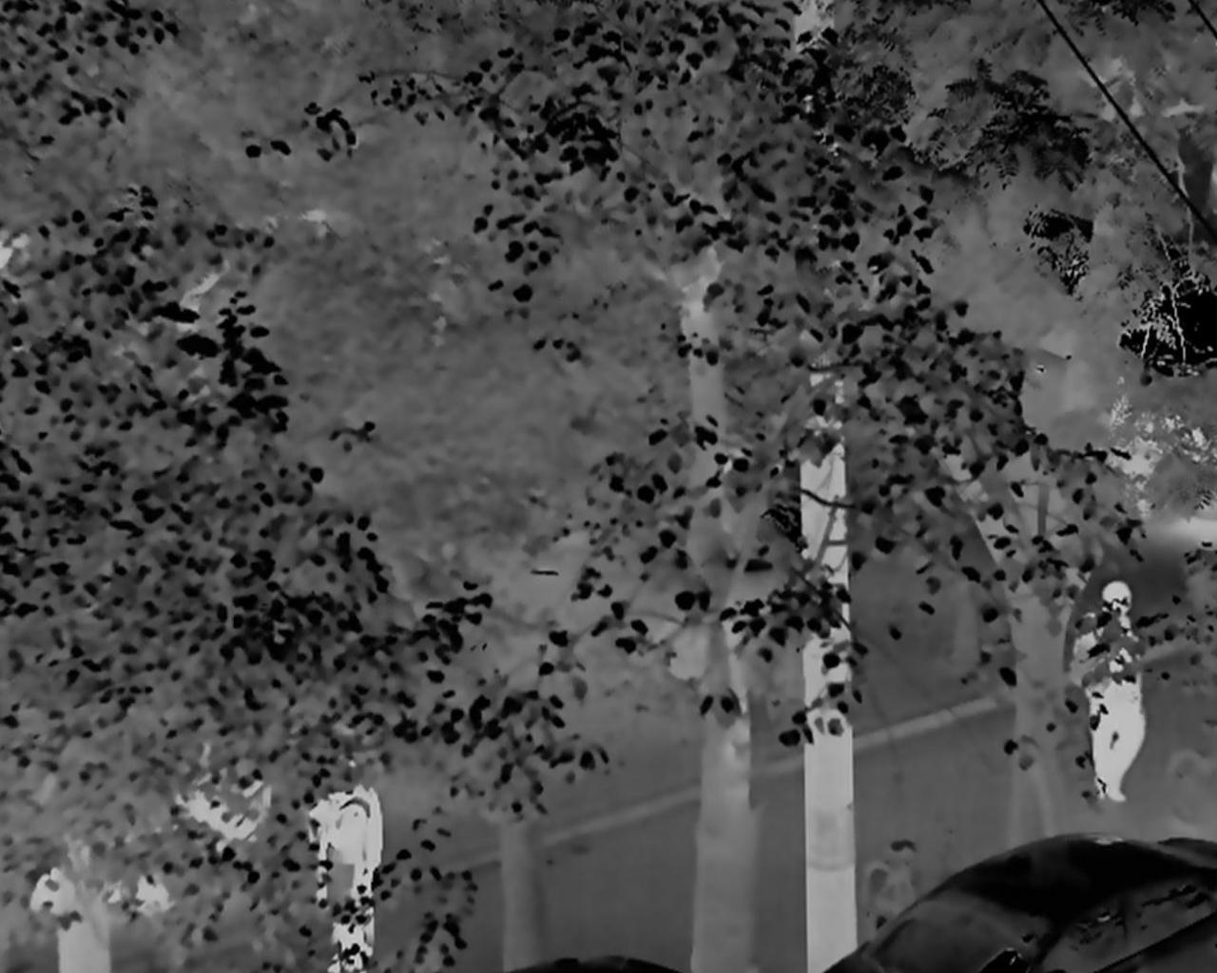person: (303, 764, 387, 973), (1078, 577, 1144, 803)
